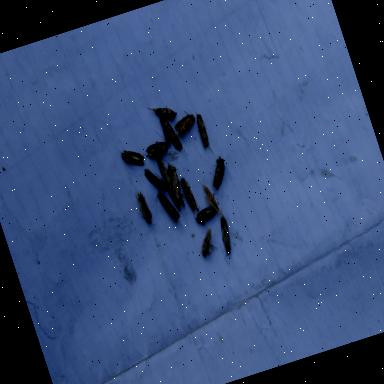pbw: (152, 184, 184, 234), (158, 112, 188, 160), (210, 206, 236, 256), (136, 128, 172, 164), (192, 110, 215, 156), (198, 174, 222, 218), (164, 164, 190, 204), (204, 154, 232, 190), (170, 107, 199, 138), (146, 99, 178, 127), (134, 188, 156, 228), (178, 172, 199, 212), (143, 163, 168, 195), (192, 200, 220, 228), (194, 226, 218, 258), (154, 154, 173, 191), (120, 144, 146, 170)
